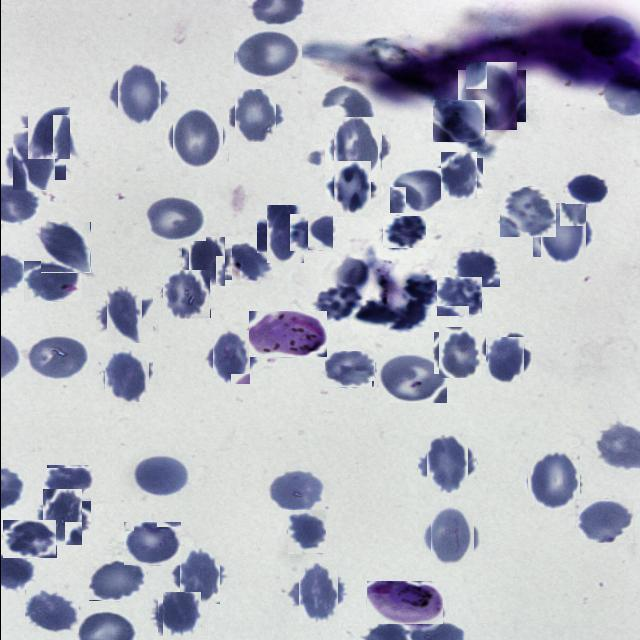difficult: (248, 311, 326, 357), (366, 581, 443, 625)
red blood cell: (461, 66, 521, 126), (376, 354, 446, 403), (233, 30, 301, 79), (524, 454, 580, 511), (168, 110, 225, 166), (328, 122, 385, 178), (111, 66, 166, 122), (536, 207, 590, 261), (142, 195, 205, 241), (24, 335, 89, 379), (389, 168, 451, 214), (499, 187, 555, 237), (426, 510, 478, 562), (8, 132, 60, 184), (574, 499, 632, 543), (123, 522, 181, 566), (40, 222, 90, 273), (266, 470, 325, 513), (422, 440, 472, 490), (292, 568, 342, 618), (132, 455, 190, 497), (24, 590, 79, 634), (88, 560, 147, 601), (160, 270, 210, 318), (23, 261, 81, 301), (38, 494, 86, 542), (230, 92, 278, 140), (261, 210, 309, 258), (24, 109, 72, 157), (175, 552, 222, 600), (102, 352, 150, 399), (100, 290, 147, 338), (328, 165, 376, 212), (432, 100, 484, 142), (436, 329, 482, 376), (313, 279, 363, 322), (208, 334, 254, 380), (2, 520, 56, 558), (449, 247, 499, 287), (483, 336, 528, 380), (160, 594, 203, 639), (184, 240, 227, 284), (43, 465, 94, 502), (324, 351, 374, 388), (436, 277, 482, 317), (436, 154, 478, 197), (287, 509, 325, 554), (289, 214, 333, 252), (382, 216, 425, 248), (564, 174, 607, 204)
